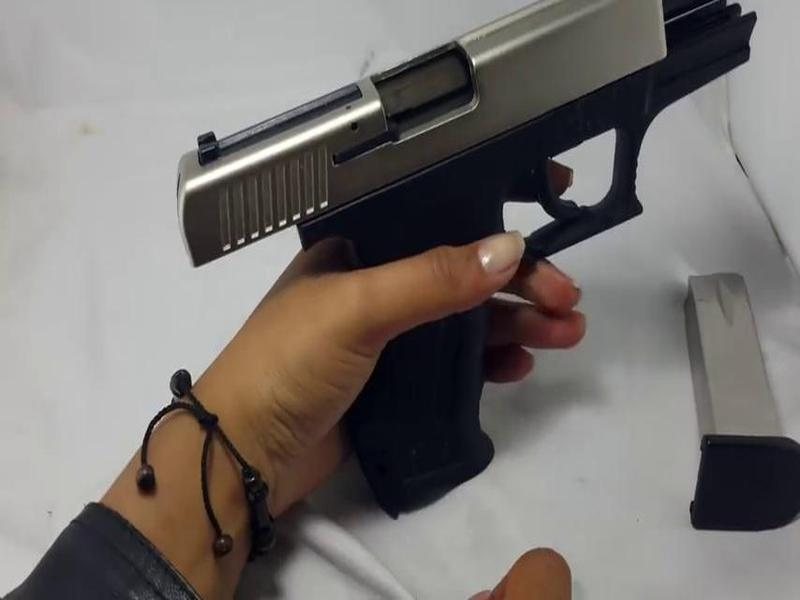Pistola: (159, 1, 771, 518)
